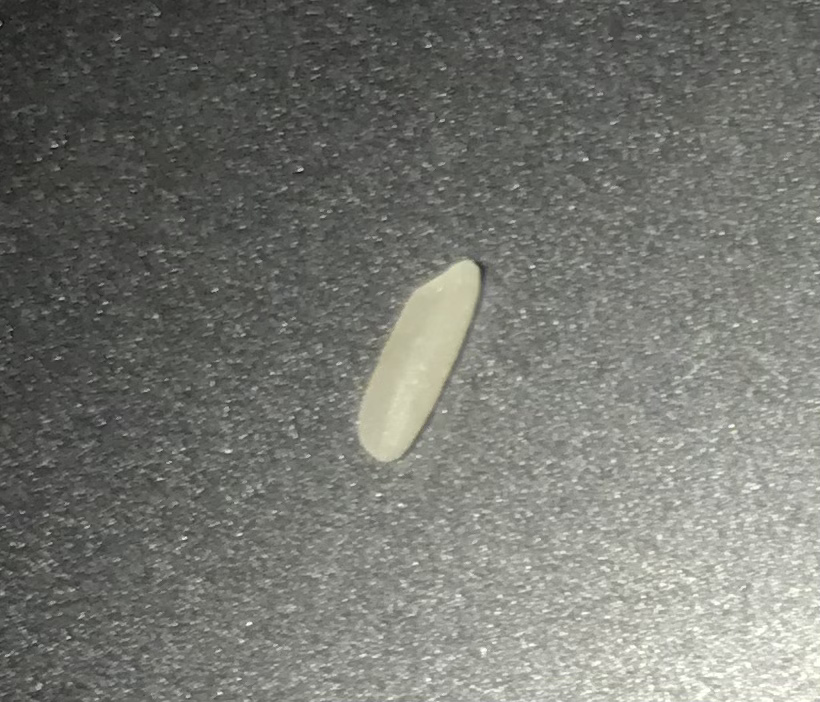Gao Tam Thom: (338, 245, 512, 474)
